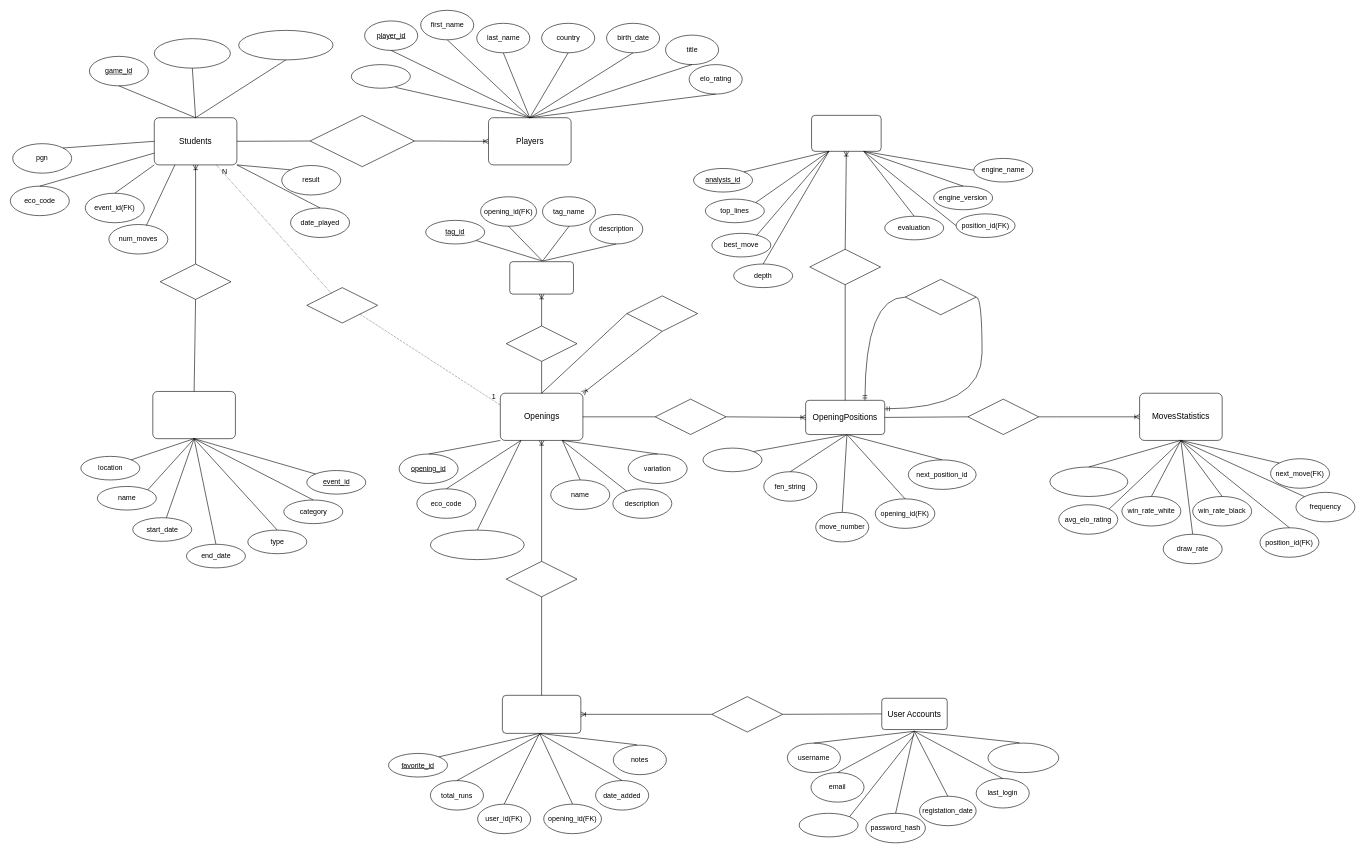
Image size: 1365x853. Some labels were removed from this diagram. The shapes that lost their labels are listed below. From the top down, each one's centre as x and y in pixels, then its label:
At pixel 192 53: "white_player_id(FK)".
At pixel 285 45: "black_player_id(FK)".
At pixel 380 76: "fide_id".
At pixel 361 141: "plays as white or plays as black".
At pixel 846 133: "EngineAnalysis".
At pixel 195 281: "hosts".
At pixel 541 277: "OpeningTags".
At pixel 845 267: "analyzed by".
At pixel 342 305: "uses ECO code".
At pixel 662 313: "has variations".
At pixel 940 297: "followed by".
At pixel 541 343: "tagged with".
At pixel 193 415: "Events".
At pixel 690 417: "has positions".
At pixel 1003 417: "has stats".
At pixel 732 460: "position_id".
At pixel 1088 481: "postion_id, next_move".
At pixel 477 545: "parent_opening_id(FK)".
At pixel 541 579: "is favorited by".
At pixel 541 714: "UserFavorites".
At pixel 747 714: "has favorites".
At pixel 1023 758: "subsciprtion_type".
At pixel 828 825: "user_id".
